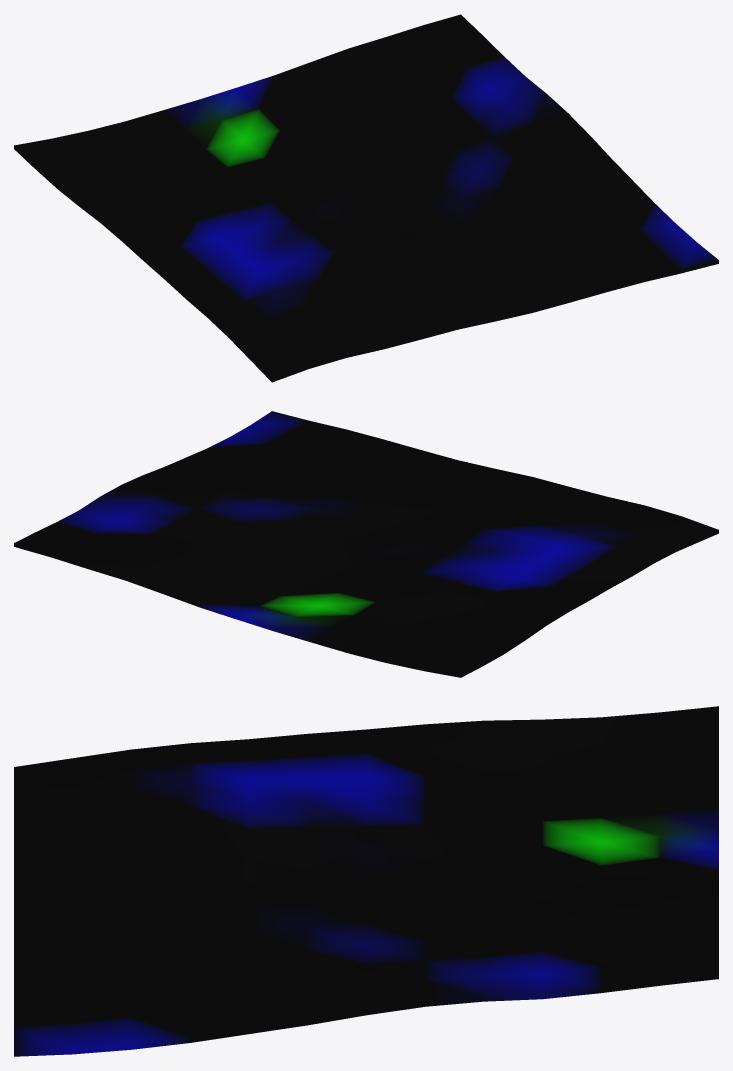
Rendered from coast_3_0.glb.
The picture shows the model from 3 angles, top to bottom: view 1: azimuth 30°, elevation 25°; view 2: azimuth 150°, elevation 25°; view 3: azimuth 270°, elevation 25°; orthographic projection. The views are drawn at different scales.
Parts seen in each view (by area): view 1: terrain; view 2: terrain; view 3: terrain.
Boxes of the visible parts, <box> form: terrain: <box>14,14,718,382</box>; terrain: <box>14,411,718,677</box>; terrain: <box>14,706,718,1056</box>.
Size of the model in its own units: 192 by 28.82 by 192.
